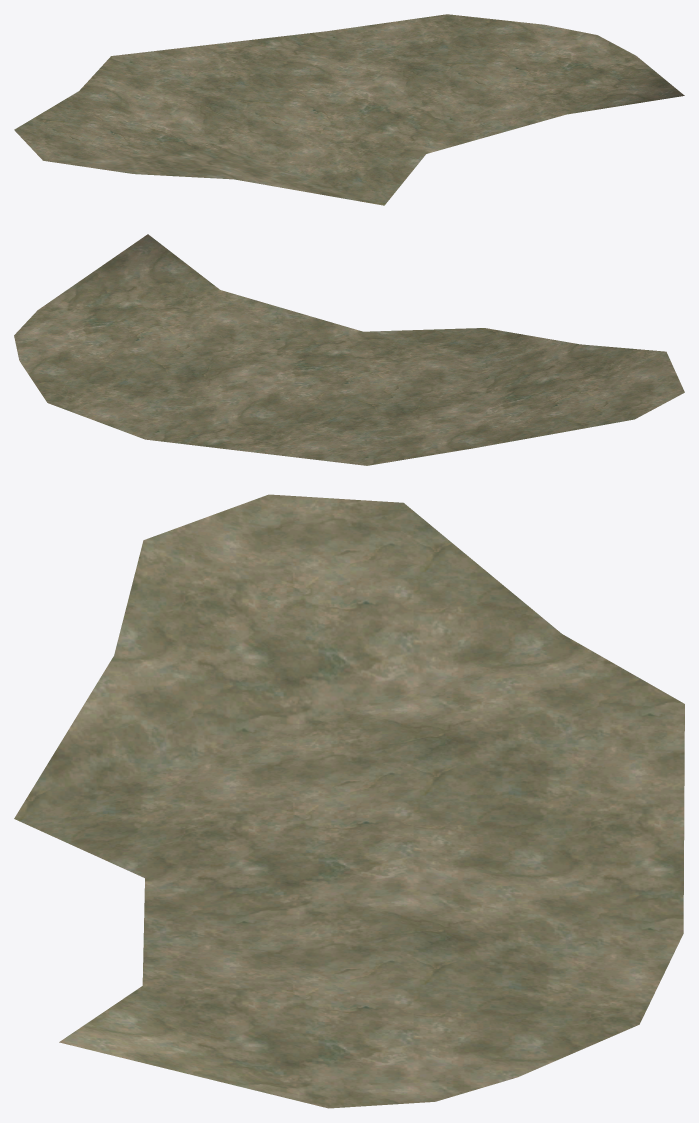
Rendered from OVERHILL_A_01_LINE05.fbx.
3 renders of one model, top to bottom at view 1: azimuth 30°, elevation 25°; view 2: azimuth 150°, elevation 25°; view 3: azimuth 270°, elevation 25°, orthographic. The views are drawn at different scales.
Visible parts, largest first — view 1: OVERHILL_A_01_LINE05; view 2: OVERHILL_A_01_LINE05; view 3: OVERHILL_A_01_LINE05.
Boxes of the visible parts, <box> form: OVERHILL_A_01_LINE05: <box>14,14,684,205</box>; OVERHILL_A_01_LINE05: <box>14,234,684,465</box>; OVERHILL_A_01_LINE05: <box>14,494,684,1108</box>.
Size of the model in its own units: 60190 by 5323 by 33069.
1 material, 1 textured.
